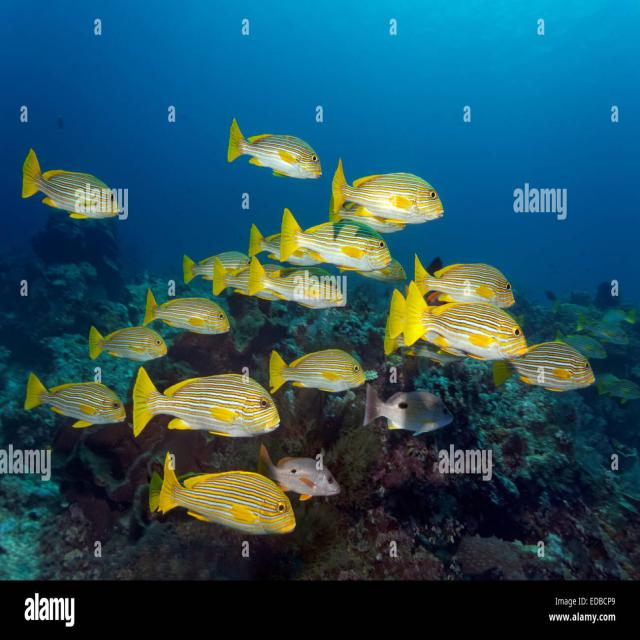RibbonedSweetlips: (158, 452, 296, 536), (132, 366, 281, 438), (404, 279, 529, 361), (331, 156, 445, 224), (279, 208, 393, 272), (22, 148, 121, 219), (227, 118, 322, 180), (24, 372, 127, 429), (414, 252, 516, 309), (492, 340, 595, 392), (248, 255, 345, 310), (268, 349, 366, 396), (142, 288, 230, 335), (89, 325, 168, 362)
